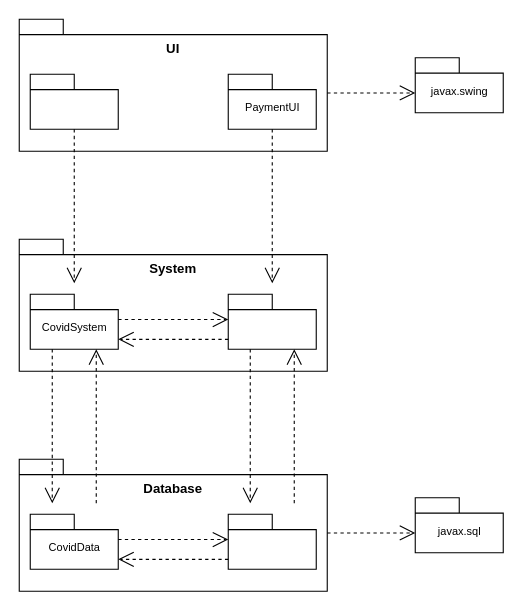
Some shapes in this 523 by 611 pixel diagram are drawn without their labels. Each missing label, with the centre of its shape:
"CovidUI" goes at (x=73, y=101).
"PaymentData" goes at (x=271, y=541).
"PaymentSystem" goes at (x=271, y=321).
